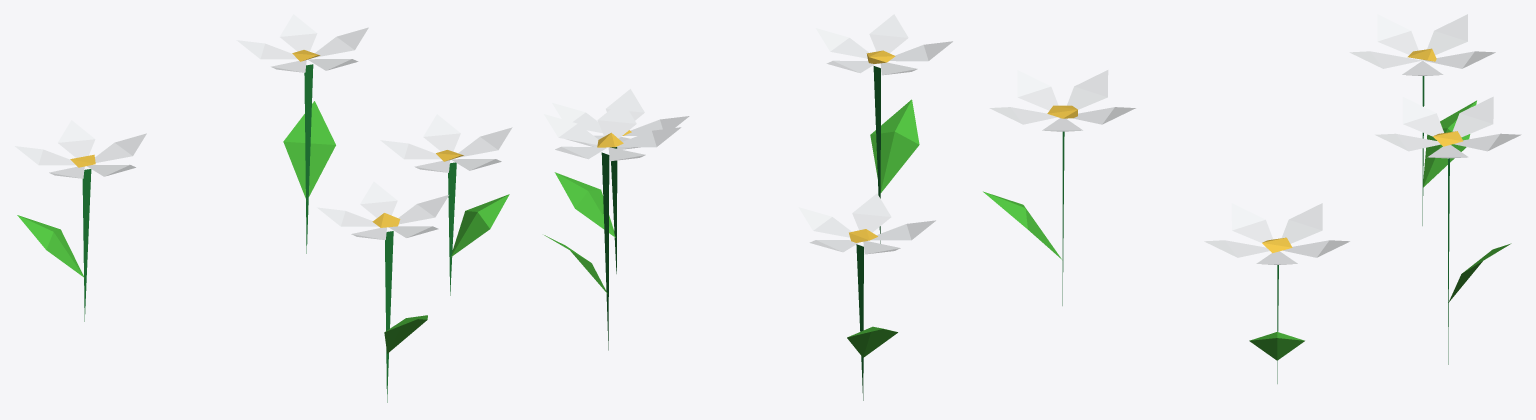
File: flower_daisy_patch.fbx
3 views of the same model, side by side, from view 1: azimuth 30°, elevation 25°; view 2: azimuth 150°, elevation 25°; view 3: azimuth 270°, elevation 25° (orthographic). The views are drawn at different scales.
Visible parts, largest first — view 1: flower_daisy_patch; view 2: flower_daisy_patch; view 3: flower_daisy_patch.
Boxes of the visible parts, <box> form: flower_daisy_patch: <box>15,14,512,402</box>; flower_daisy_patch: <box>544,14,952,400</box>; flower_daisy_patch: <box>983,14,1521,383</box>.
Size of the model in its own units: 0.8 by 0.4 by 0.8.
